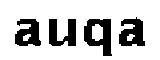a: (115, 16, 149, 52), (13, 17, 42, 50)
q: (82, 15, 113, 60)
u: (47, 13, 81, 51)
